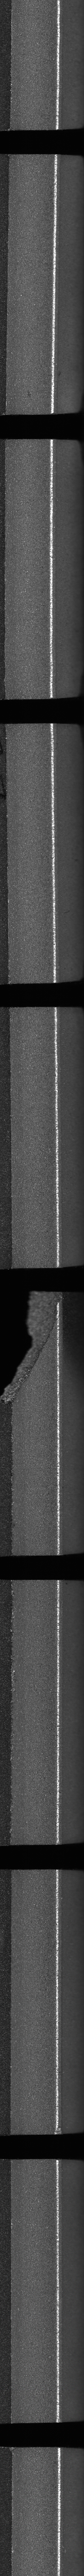Chip: (0, 1285, 63, 1411)
